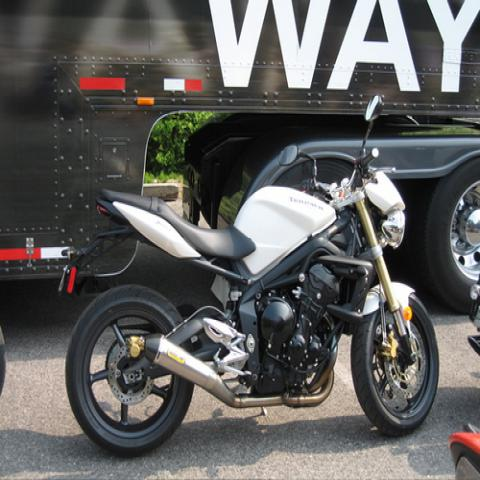motorcycle: (61, 88, 437, 461)
truck: (2, 2, 479, 278)
